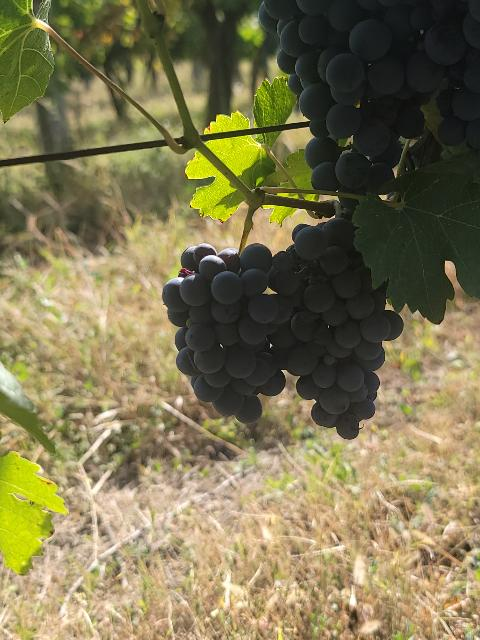grapes: (259, 0, 480, 194), (268, 218, 404, 439), (162, 244, 285, 424)
